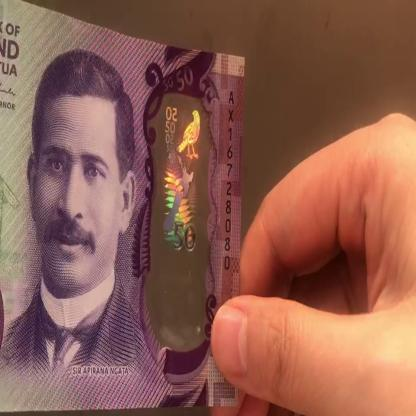50F: (158, 98, 205, 318)
